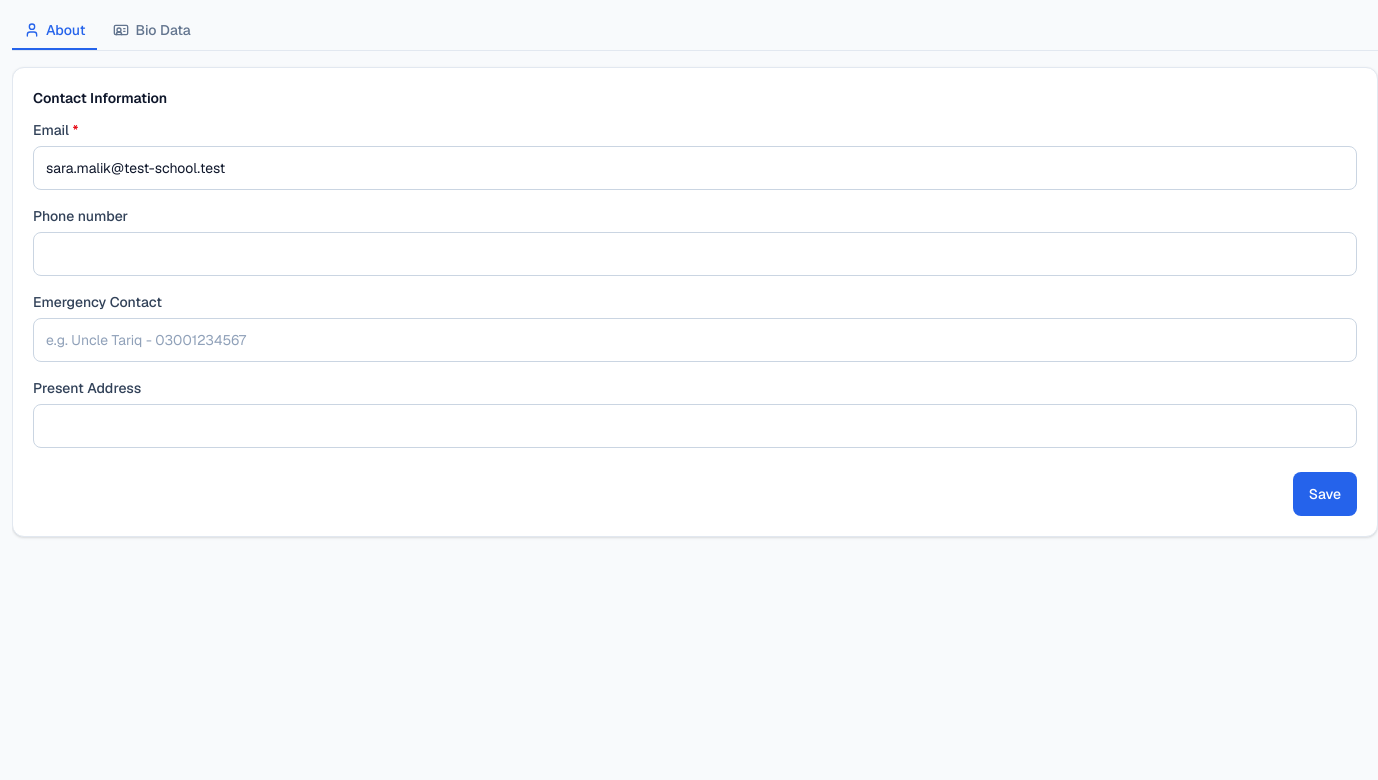
Scenario: StudentProfileTabs › shows read-only Bio Data — personal detail and family detail — with no editable fields
Click the button "Bio Data". click: x=152, y=31
box: [101,12,203,50]
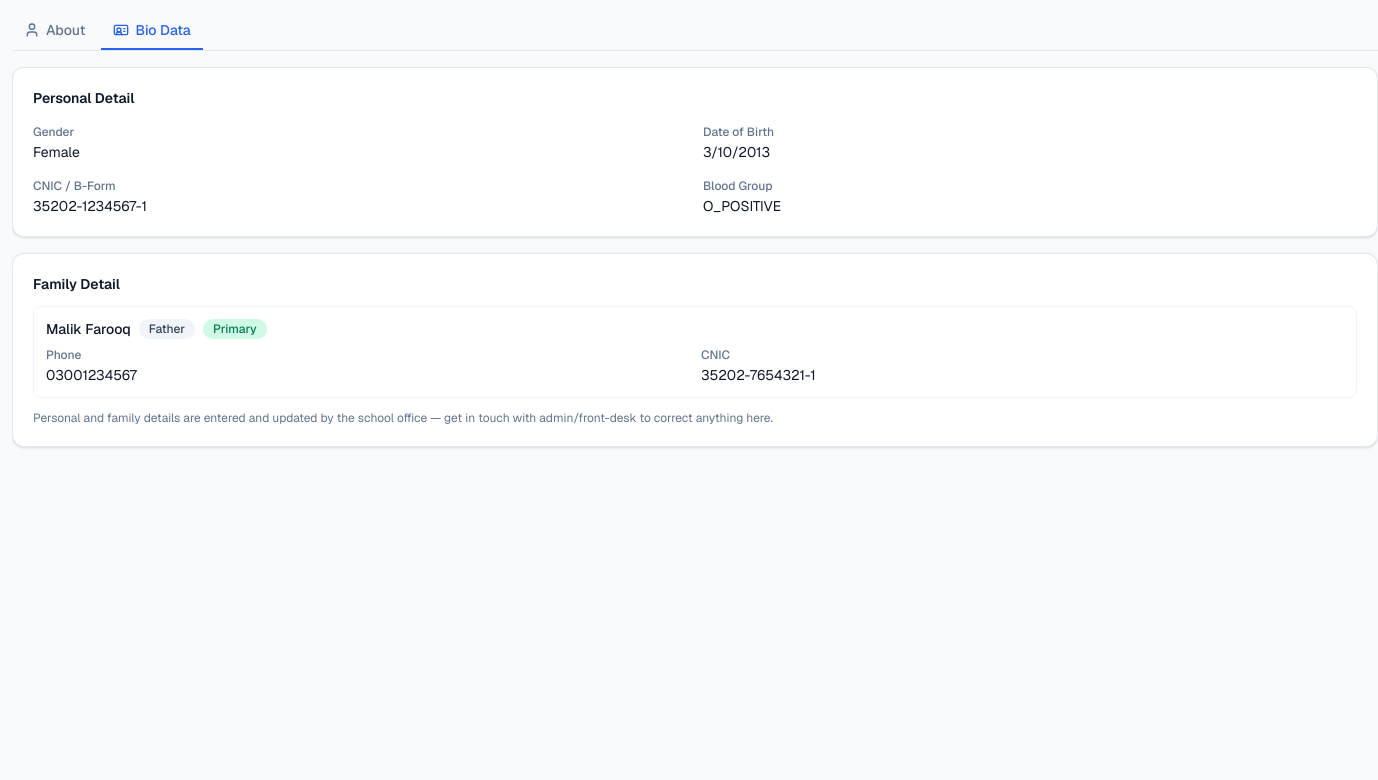
Check: the text "Female" is shown, box [33,143,80,161]
Check: the text "35202-1234567-1" is shown, box [33,197,147,215]
Check: the text "O_POSITIVE" is shown, box [703,197,781,215]
